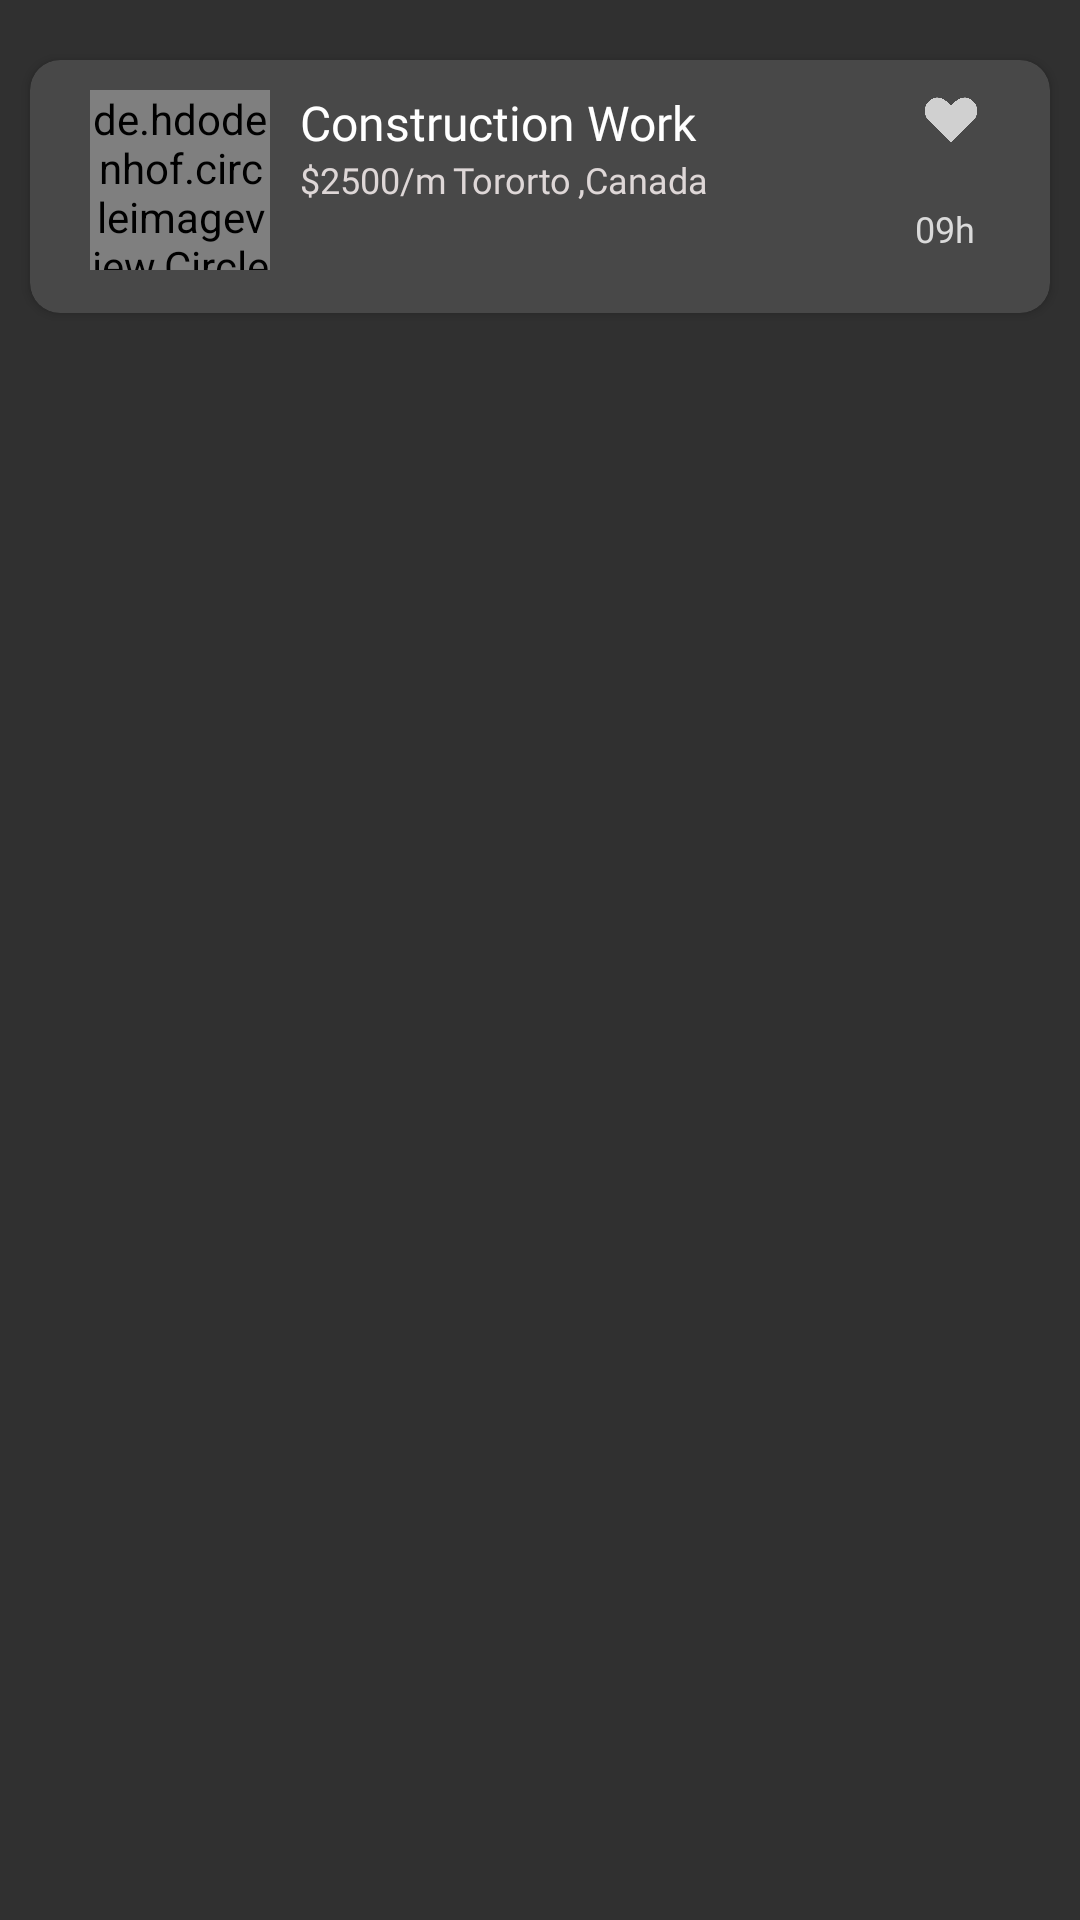

Icon bounding boxes for this 1080w x 1920h phone screenshot, format box(x1, y1, x2, y2):
love: box(925, 97, 977, 142)
